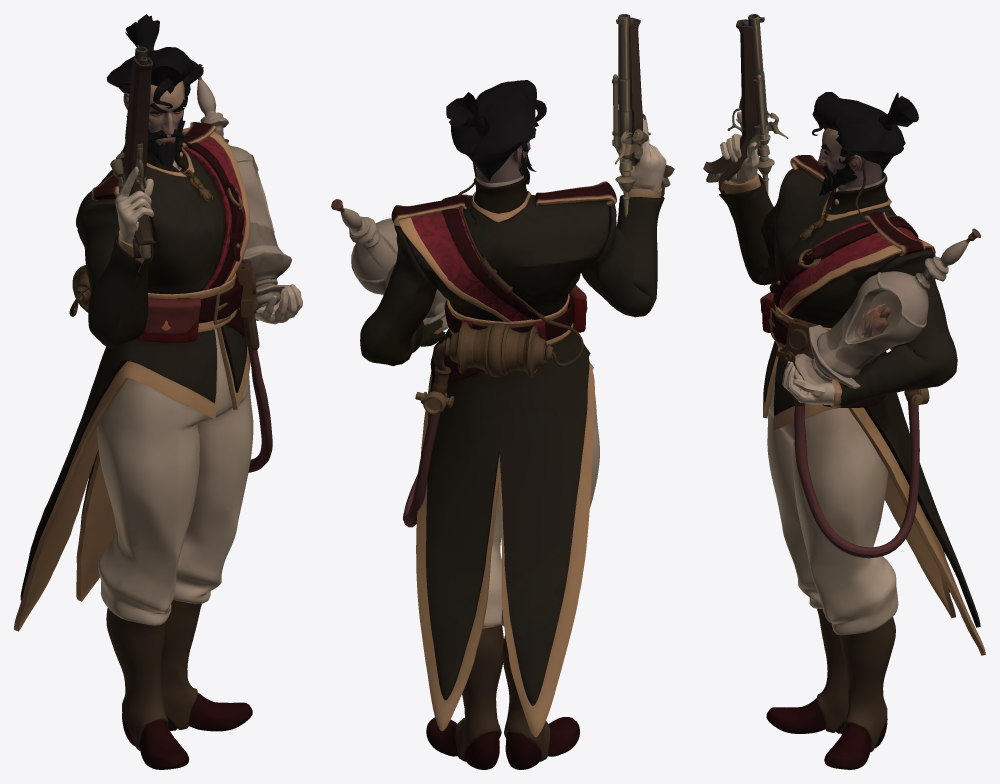
3 renders of one model, left to right at view 1: azimuth 30°, elevation 25°; view 2: azimuth 150°, elevation 25°; view 3: azimuth 270°, elevation 25°, orthographic. The views are drawn at different scales.
Parts seen in each view (by area): view 1: models\heroes_staging\mirage_v2\mirage.vmdl_c.mirage, models\heroes_staging\mirage_v2\mirage.vmdl_c.urn, models\heroes_staging\mirage_v2\mirage.vmdl_c.gun; view 2: models\heroes_staging\mirage_v2\mirage.vmdl_c.mirage, models\heroes_staging\mirage_v2\mirage.vmdl_c.gun, models\heroes_staging\mirage_v2\mirage.vmdl_c.urn; view 3: models\heroes_staging\mirage_v2\mirage.vmdl_c.mirage, models\heroes_staging\mirage_v2\mirage.vmdl_c.urn, models\heroes_staging\mirage_v2\mirage.vmdl_c.gun.
Part boxes in pixels (<box>): models\heroes_staging\mirage_v2\mirage.vmdl_c.mirage: <box>14,14,302,769</box>; models\heroes_staging\mirage_v2\mirage.vmdl_c.urn: <box>197,64,291,308</box>; models\heroes_staging\mirage_v2\mirage.vmdl_c.gun: <box>110,45,156,259</box>; models\heroes_staging\mirage_v2\mirage.vmdl_c.mirage: <box>360,80,666,769</box>; models\heroes_staging\mirage_v2\mirage.vmdl_c.gun: <box>612,14,674,216</box>; models\heroes_staging\mirage_v2\mirage.vmdl_c.urn: <box>331,199,448,330</box>; models\heroes_staging\mirage_v2\mirage.vmdl_c.mirage: <box>718,92,985,769</box>; models\heroes_staging\mirage_v2\mirage.vmdl_c.urn: <box>795,228,980,388</box>; models\heroes_staging\mirage_v2\mirage.vmdl_c.gun: <box>703,14,788,195</box>.
Bounding box in the file's own units: 0.9034 × 2.69 × 0.9996.
Materials: 8 (7 with a texture image).
